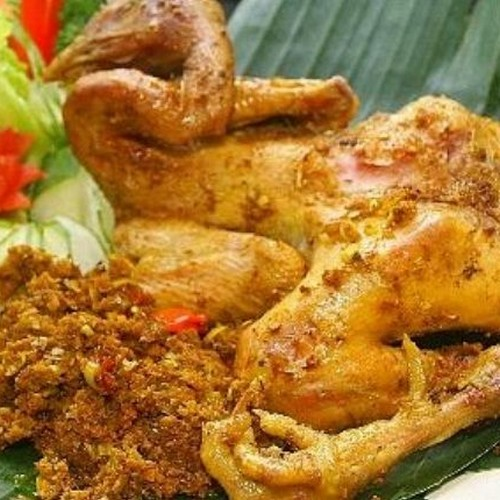ayam betutu: (97, 65, 488, 427)
